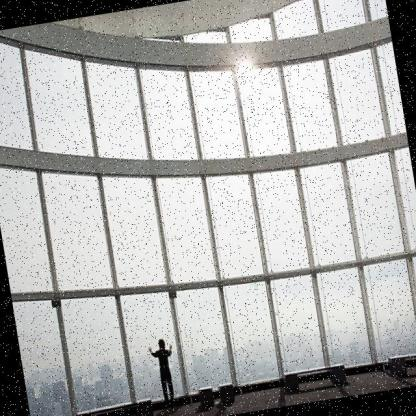Window: (99, 165, 171, 299), (154, 167, 224, 290), (250, 163, 317, 281), (204, 167, 270, 280)
